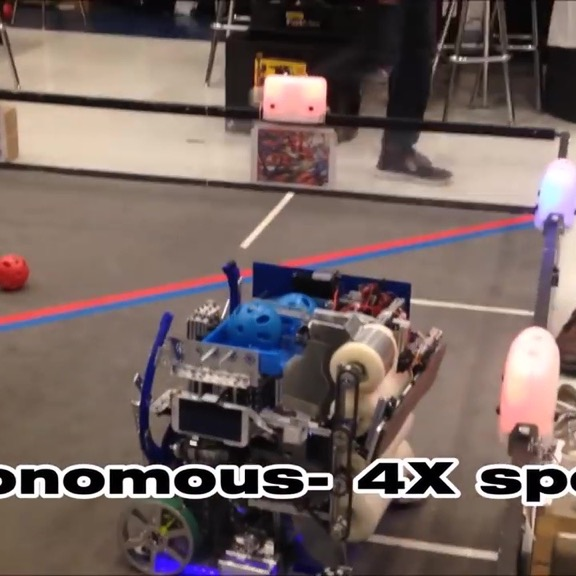ball: (221, 295, 282, 352), (0, 249, 30, 293), (273, 290, 313, 323)
robot: (116, 255, 448, 576)
